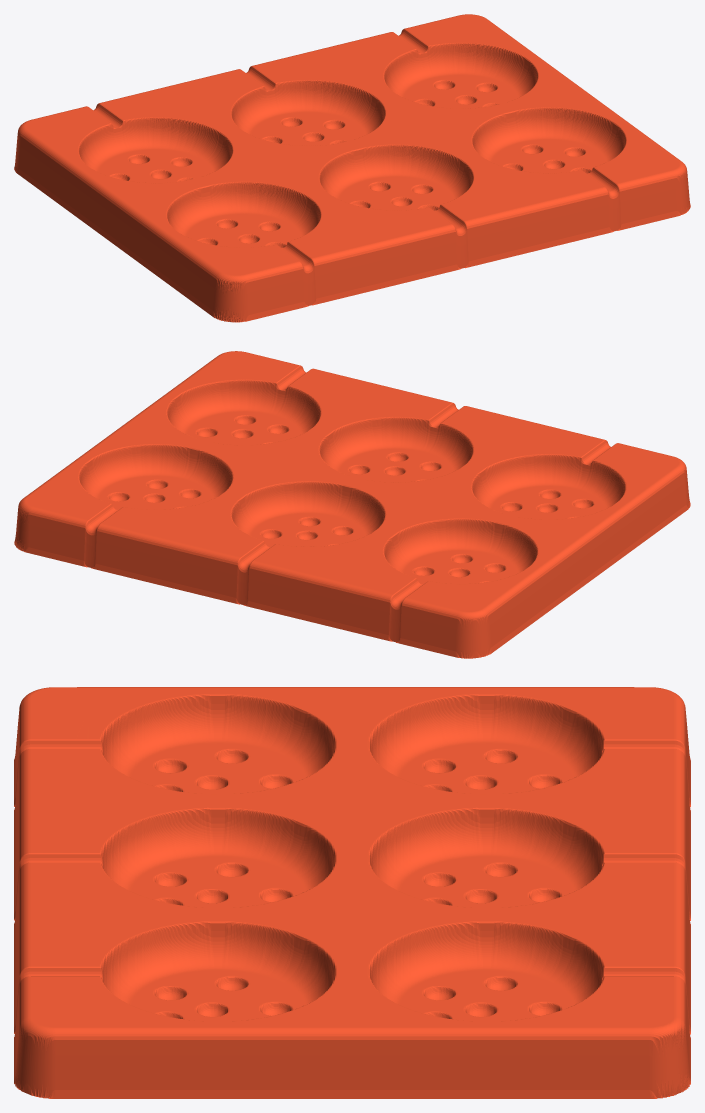
File: mold.glb
3 views of the same model, one above another, from view 1: azimuth 30°, elevation 25°; view 2: azimuth 150°, elevation 25°; view 3: azimuth 270°, elevation 25° (orthographic). The views are drawn at different scales.
Visible parts, largest first — view 1: geometry_0; view 2: geometry_0; view 3: geometry_0.
Boxes of the visible parts, x1,y1,x2,y2 form: geometry_0: [14, 14, 690, 322]; geometry_0: [14, 351, 690, 658]; geometry_0: [14, 687, 690, 1098].
Bounding box in the file's own units: 0.1824 × 0.0155 × 0.1477.
